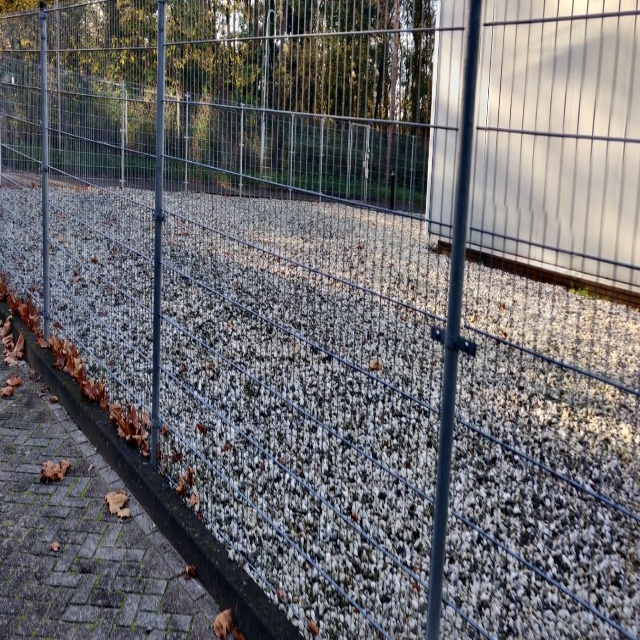obstacle: (0, 62, 640, 640)
